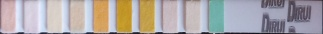color 1: (2, 1, 14, 30)
color 10: (210, 2, 222, 30)
color 2: (25, 2, 37, 31)
color 3: (48, 2, 60, 30)
color 4: (71, 2, 83, 31)
color 5: (95, 1, 107, 31)
color 6: (118, 1, 130, 31)
color 7: (140, 1, 153, 31)
color 8: (163, 2, 176, 31)
color 9: (187, 3, 198, 31)
